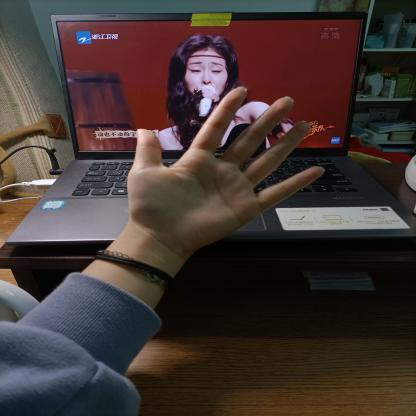bare_hand: (120, 78, 333, 268)
